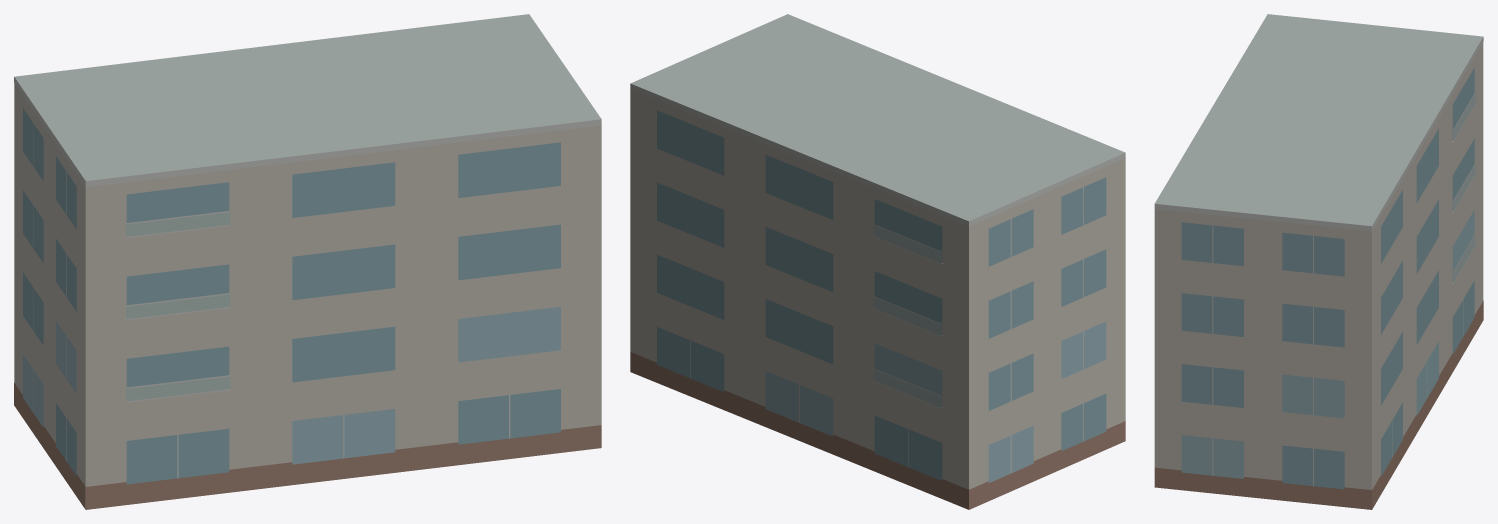
File: survey-upis-32593474.glb
3 renders of one model, left to right at view 1: azimuth 30°, elevation 25°; view 2: azimuth 150°, elevation 25°; view 3: azimuth 270°, elevation 25°, orthographic. The views are drawn at different scales.
Visible parts, largest first — view 1: survey-upis-32593474.tmp; view 2: survey-upis-32593474.tmp; view 3: survey-upis-32593474.tmp.
Part boxes in pixels (x1,y1,x2,y2): survey-upis-32593474.tmp: [14, 14, 601, 509]; survey-upis-32593474.tmp: [630, 14, 1125, 509]; survey-upis-32593474.tmp: [1154, 14, 1483, 509].
Size of the model in its own units: 21.35 by 13.3 by 13.98.
